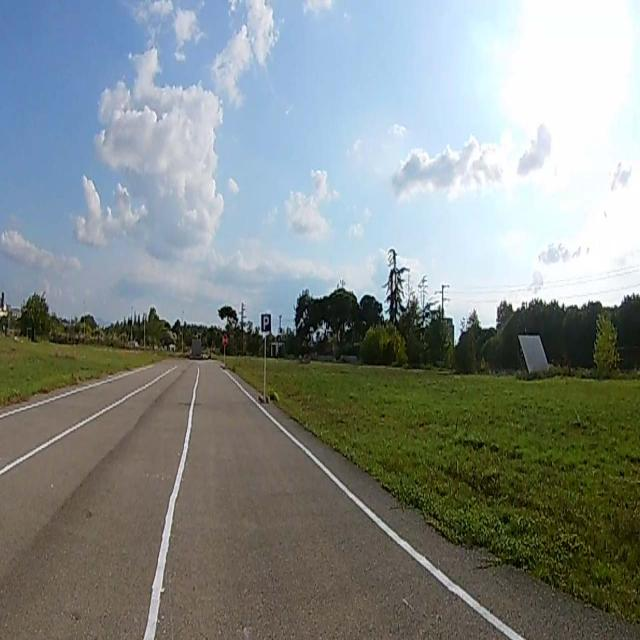park: (261, 314, 271, 332)
